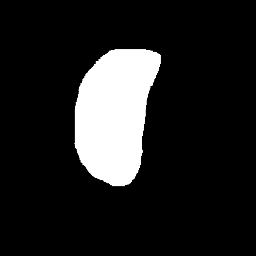mass: (77, 65, 149, 183)
